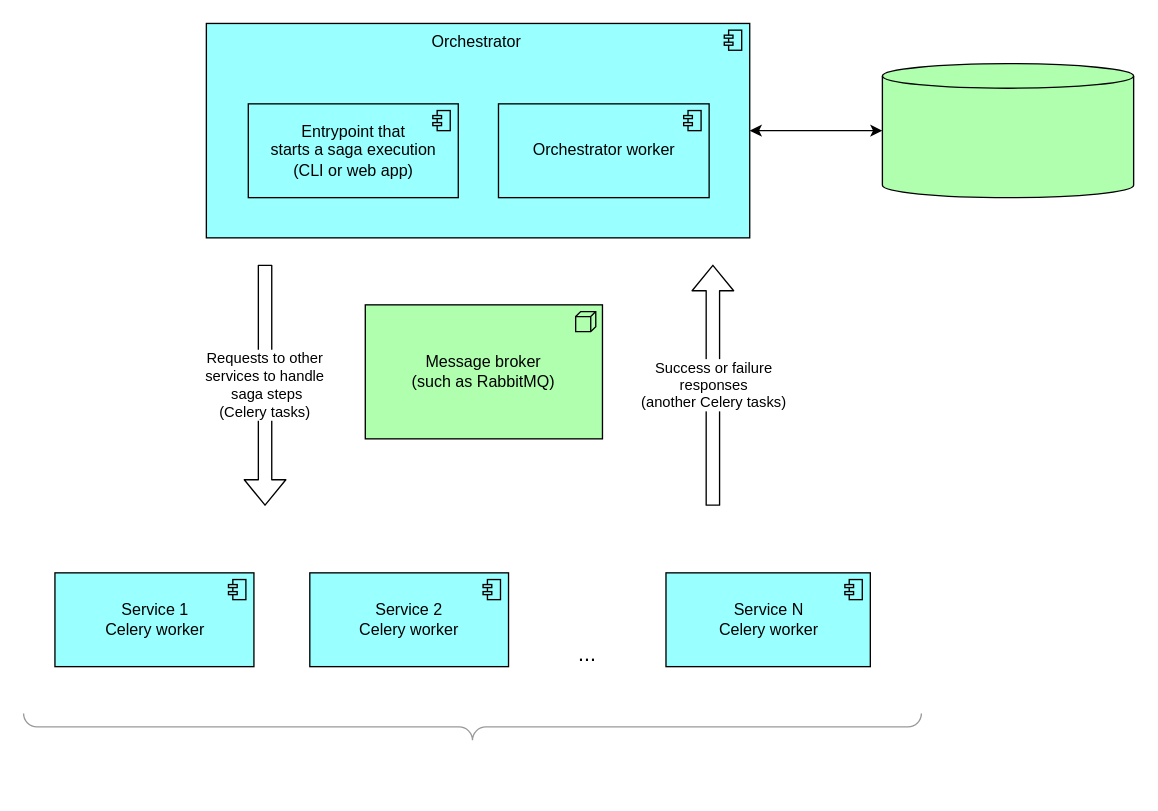
The diagram is 1158 pixels wide and 811 high, and some of its shapes have lost their labels. The shapes that lost their labels are listed below. From the top down, each one's centre as x and y in pixels, then its label:
[1007,130]: Orchestrator database (keeps saga states)
[471,726]: Saga Step Handlers
